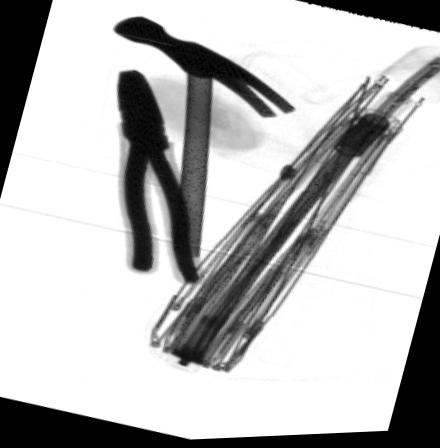Hammer: (111, 16, 295, 260)
Pliers: (117, 70, 205, 287)
